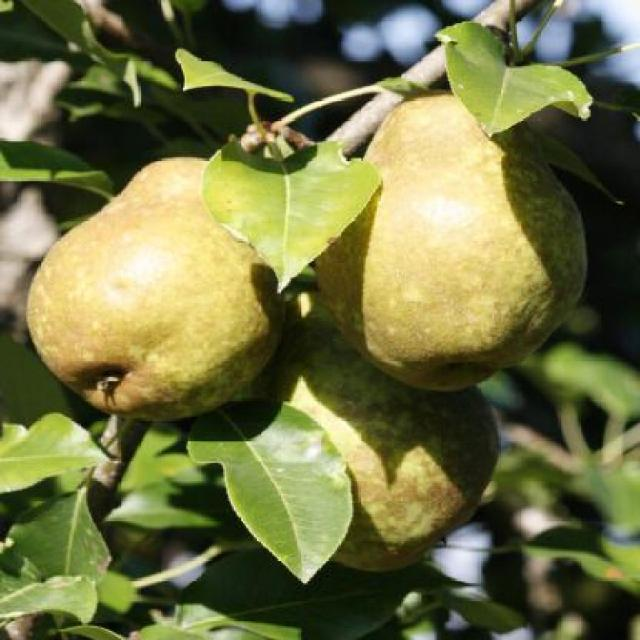Pear: (306, 87, 588, 396), (246, 298, 506, 574), (28, 158, 288, 417)
